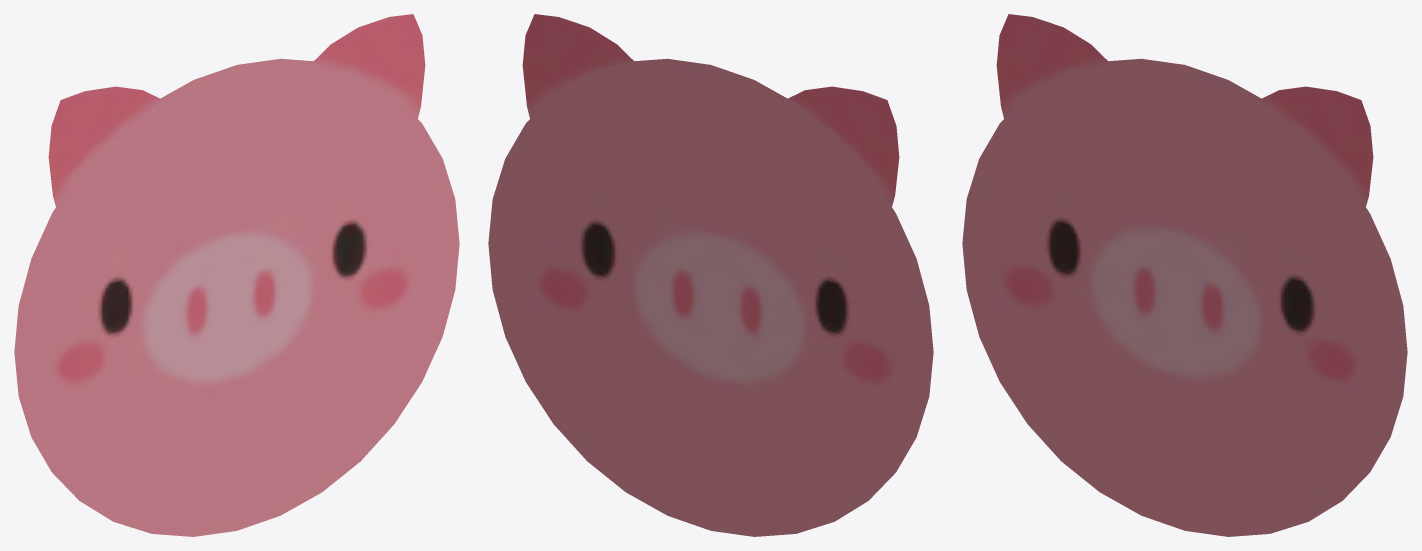
Rendered from Pig.fbx.
3 views of the same model, side by side, from view 1: azimuth 30°, elevation 25°; view 2: azimuth 150°, elevation 25°; view 3: azimuth 330°, elevation 25° (orthographic).
Visible parts, largest first — view 1: Pig; view 2: Pig; view 3: Pig.
Boxes of the visible parts, <box> form: Pig: <box>14,14,459,536</box>; Pig: <box>488,14,933,536</box>; Pig: <box>962,14,1407,536</box>.
Size of the model in its own units: 200 by 205 by 0.00167.
